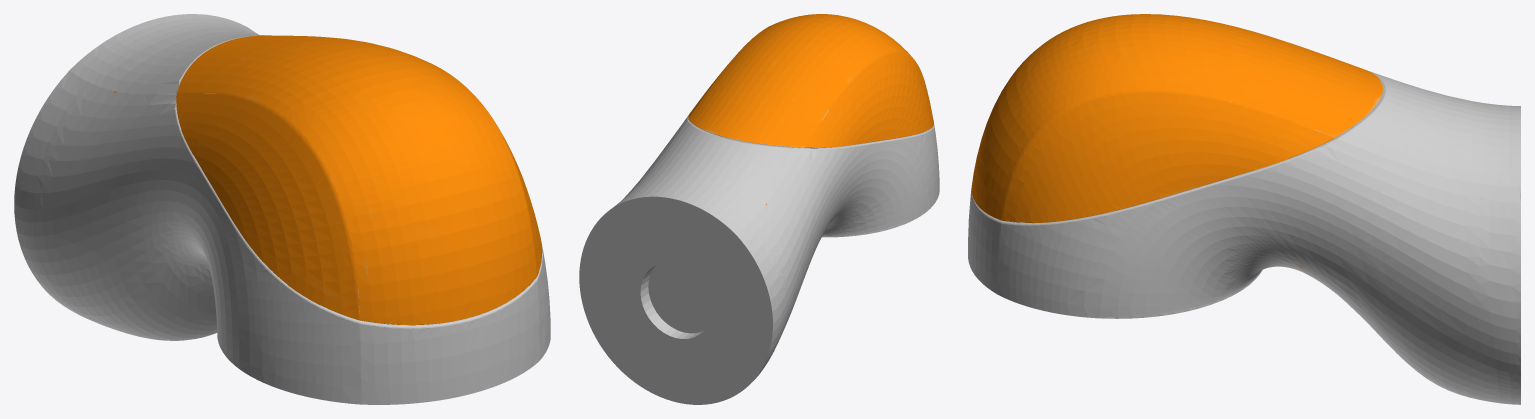
3 views of the same model, side by side, from view 1: azimuth 30°, elevation 25°; view 2: azimuth 150°, elevation 25°; view 3: azimuth 270°, elevation 25° (orthographic). The views are drawn at different scales.
Parts seen in each view (by area): view 1: Link 4; view 2: Link 4; view 3: Link 4.
Part boxes in pixels (bbox=[...]): Link 4: bbox=[14, 14, 550, 404]; Link 4: bbox=[579, 14, 939, 404]; Link 4: bbox=[968, 14, 1520, 404].
Bounding box in the file's own units: 0.136 × 0.252 × 0.1826.
Materials: 1 (1 with a texture image).
